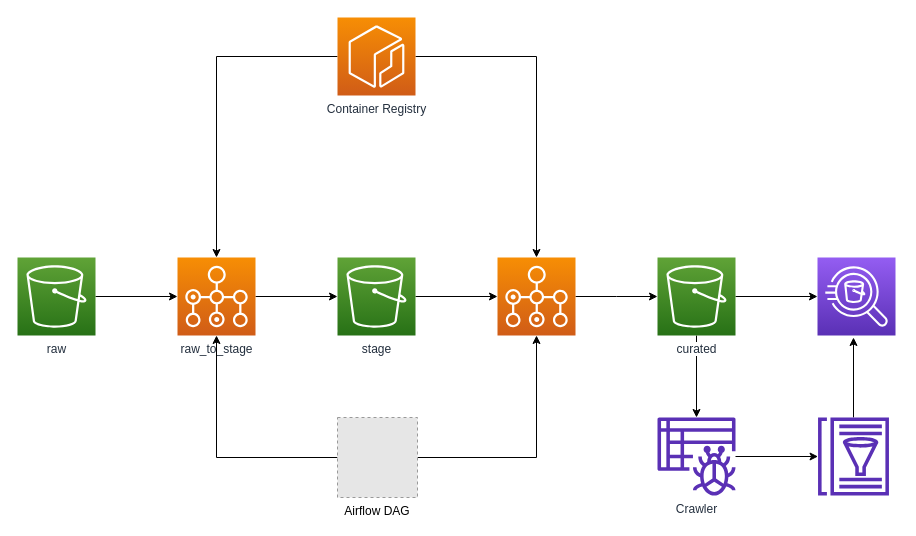
This 916x536 diagram has some shape labels left out. Grey dashed boxes stand in for pictures. Here are the shapes that lost their labels. From the top down, the box of each, then its label:
(496, 256, 576, 336): stage_to_curated
(816, 256, 896, 336): Amazon Athena
(817, 417, 889, 495): Glue Catalog
